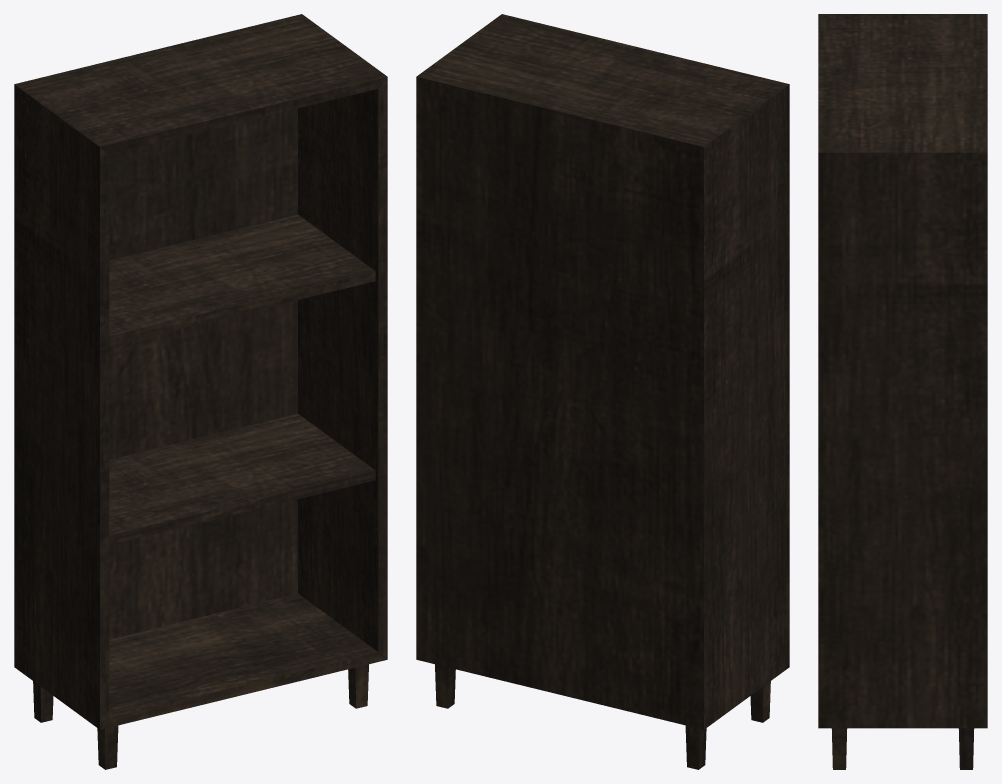
Rendered from shelf_mp_2_2.obj.
3 renders of one model, left to right at view 1: azimuth 30°, elevation 25°; view 2: azimuth 150°, elevation 25°; view 3: azimuth 270°, elevation 25°, orthographic.
Visible parts, largest first — view 1: shelf_mp_2_2; view 2: shelf_mp_2_2; view 3: shelf_mp_2_2.
Boxes of the visible parts, x1,y1,x2,y2 form: shelf_mp_2_2: (14, 14, 387, 769); shelf_mp_2_2: (416, 14, 789, 769); shelf_mp_2_2: (818, 14, 987, 769).
Bounding box in the file's own units: 0.62 × 1.3 × 0.32.
